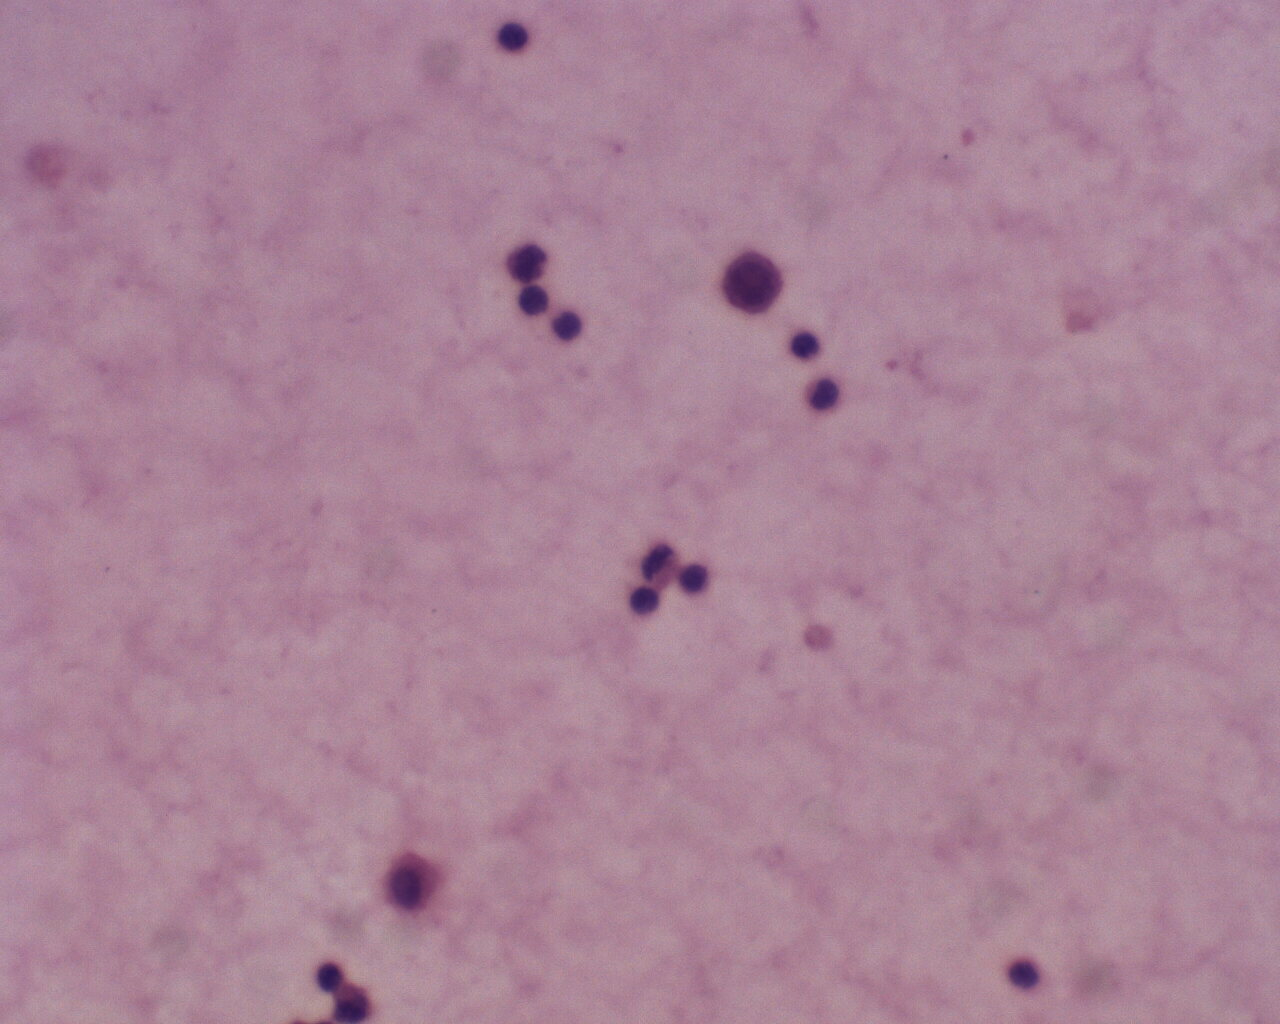ab: (717, 245, 786, 315)
lymph: (805, 375, 840, 414), (495, 16, 530, 55), (1006, 954, 1041, 993), (549, 307, 584, 338)
meso: (382, 848, 445, 920)
